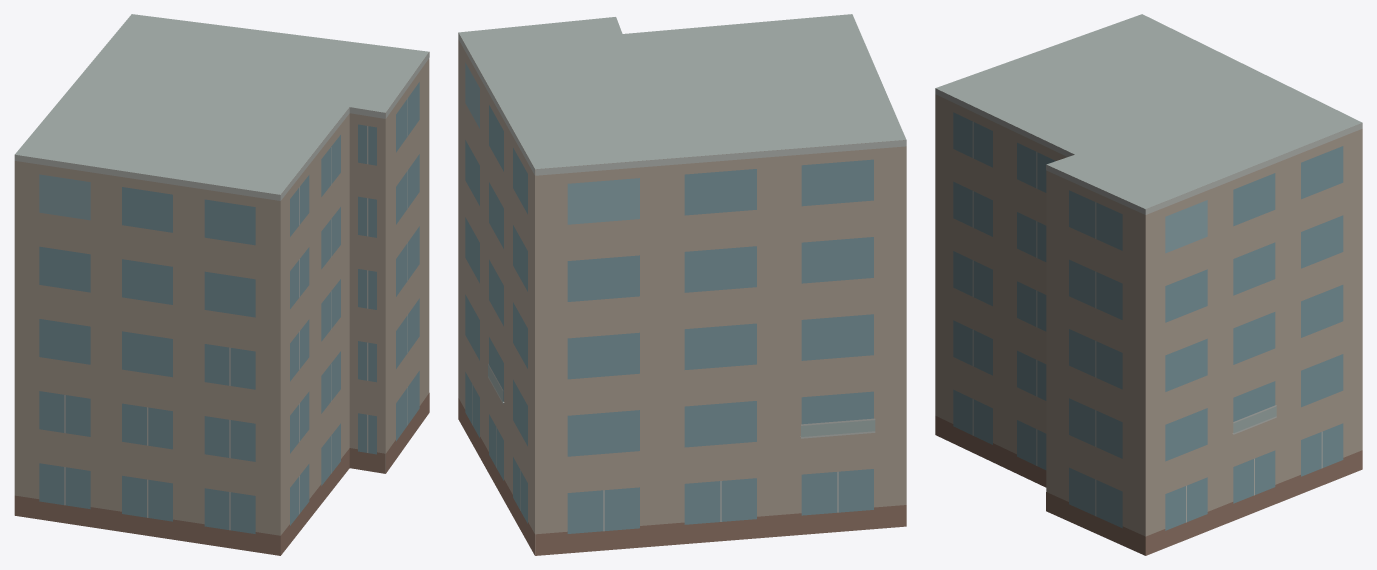
Rendered from survey-upis-32814405.glb.
3 renders of one model, left to right at view 1: azimuth 30°, elevation 25°; view 2: azimuth 150°, elevation 25°; view 3: azimuth 270°, elevation 25°, orthographic. The views are drawn at different scales.
Visible parts, largest first — view 1: survey-upis-32814405.tmp; view 2: survey-upis-32814405.tmp; view 3: survey-upis-32814405.tmp.
Part boxes in pixels (x1,y1,x2,y2): survey-upis-32814405.tmp: [14, 14, 429, 555]; survey-upis-32814405.tmp: [458, 14, 906, 555]; survey-upis-32814405.tmp: [935, 14, 1362, 555].
Bounding box in the file's own units: 17.4 × 14.4 × 16.1.
